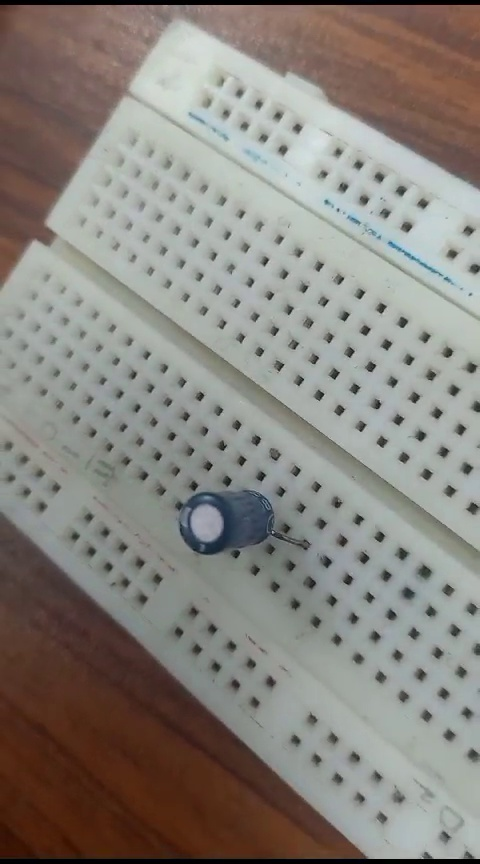capacitor: (166, 477, 334, 569)
